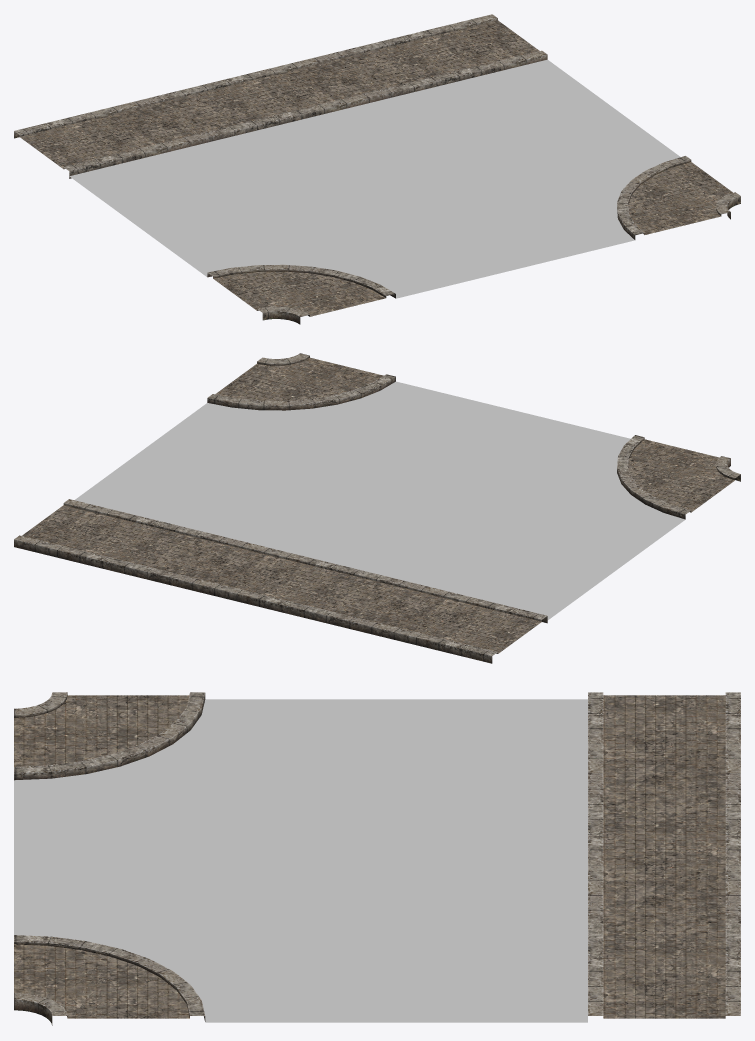
The model's file is Road8D.fbx.
The picture shows the model from 3 angles, top to bottom: view 1: azimuth 30°, elevation 25°; view 2: azimuth 150°, elevation 25°; view 3: azimuth 270°, elevation 25°; orthographic projection. The views are drawn at different scales.
Visible parts, largest first — view 1: polySurface76; view 2: polySurface76; view 3: polySurface76.
Boxes of the visible parts, x1=… form: polySurface76: x1=14, y1=14, x2=740, y2=324; polySurface76: x1=14, y1=353, x2=740, y2=663; polySurface76: x1=14, y1=692, x2=740, y2=1025.
Size of the model in its own units: 10 by 0.1527 by 9.5.
